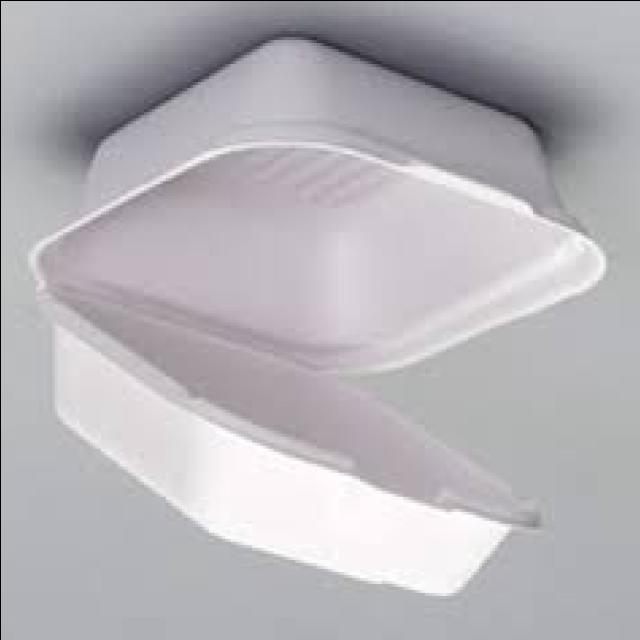styrofoam: (32, 38, 604, 594)
